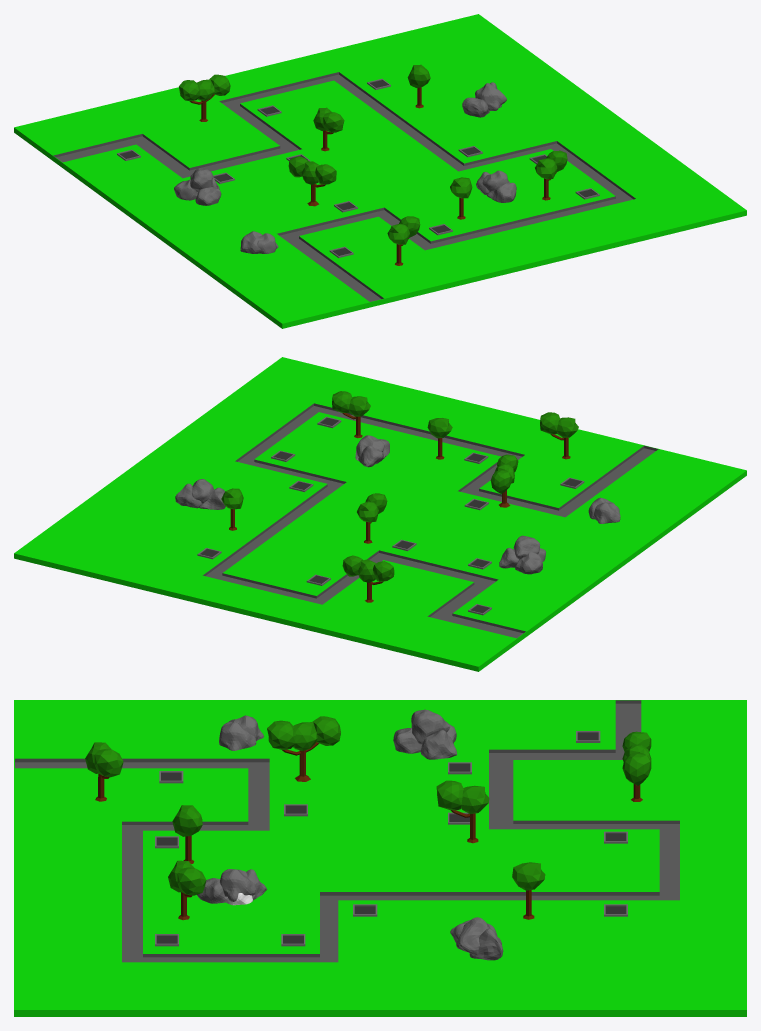
The model's file is TutorialMissionOne.fbx.
3 views of the same model, one above another, from view 1: azimuth 30°, elevation 25°; view 2: azimuth 150°, elevation 25°; view 3: azimuth 270°, elevation 25° (orthographic). The views are drawn at different scales.
Parts seen in each view (by area): view 1: MissionPlatform, Tree1, Tree4, Tree7, Tree5, Tree2, Rock9, Tree3; view 2: MissionPlatform, Tree1, Tree7, Tree5, Tree4, Tree2; view 3: MissionPlatform, Tree4, Tree2, Tree1, Tree7, Tree5, Tree3, Tree6, Rock3, Rock5, Rock2, Rock11 (+3 smaller).
Boxes of the visible parts, box(x1,y1,x2,y2) form: MissionPlatform: box(14, 14, 746, 328); Tree1: box(179, 74, 230, 121); Tree4: box(288, 156, 336, 206); Tree7: box(387, 216, 420, 265); Tree5: box(535, 150, 567, 200); Tree2: box(313, 107, 344, 151); Rock9: box(475, 83, 506, 110); Tree3: box(407, 64, 430, 108); MissionPlatform: box(14, 357, 746, 671); Tree1: box(342, 555, 394, 602); Tree7: box(540, 412, 578, 459); Tree5: box(332, 391, 370, 438); Tree4: box(490, 454, 518, 507); Tree2: box(357, 493, 387, 543); MissionPlatform: box(14, 700, 746, 1016); Tree4: box(267, 716, 340, 781); Tree2: box(436, 780, 489, 843); Tree1: box(622, 731, 651, 801); Tree7: box(85, 742, 123, 801); Tree5: box(168, 860, 206, 920); Tree3: box(512, 862, 545, 919); Tree6: box(172, 805, 202, 863); Rock3: box(411, 709, 450, 744); Rock5: box(220, 869, 256, 901); Rock2: box(420, 730, 457, 759); Rock11: box(219, 722, 256, 750).
Bounding box in the file's own units: 265 × 35.1 × 265.
